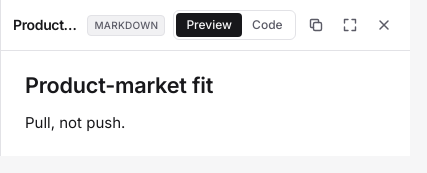
Test: ArtifactViewer: controls › copies the source to the clipboard
Click the button named "Copy source" at (316,25), box [302,11,330,39]
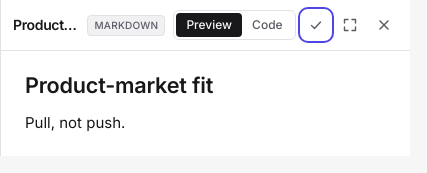
Now the button named "Copied" is shown, box [302,11,330,39]
